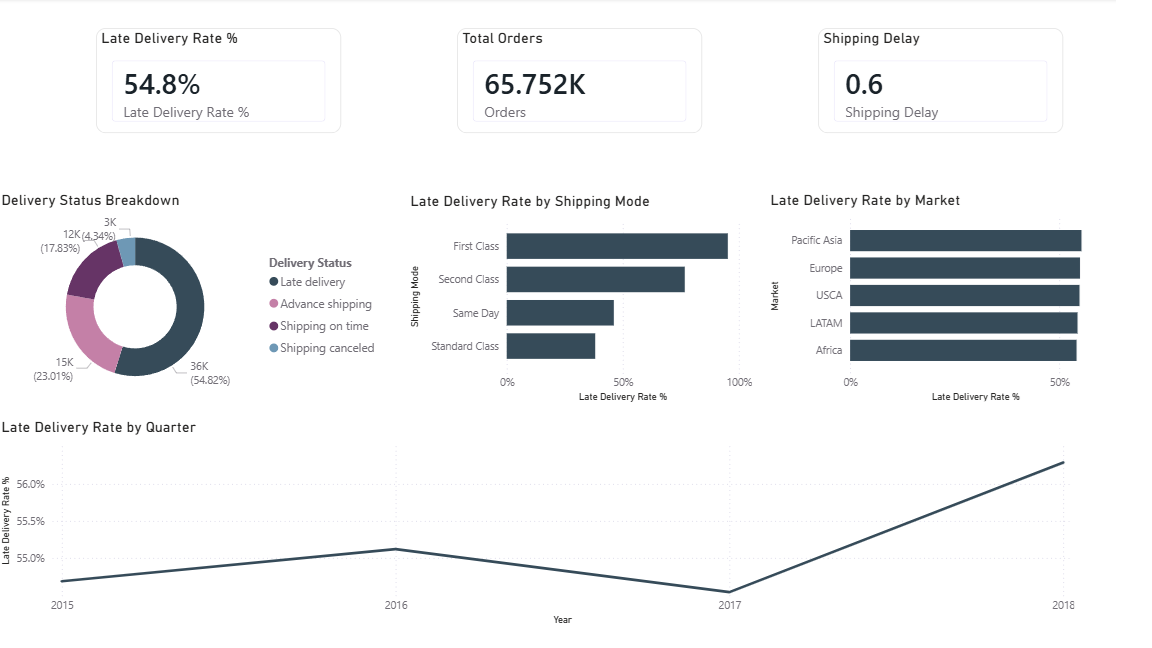

The dashboard page shown, as its layout file describes it:
{"tool":"powerbi","page":{"name":"Logistic Performance","canvas":[1280,720],"ordinal":0},"visuals":[{"type":"cardVisual","title":"Late Delivery Rate %","fields":{"Data":["_Measures.Late Delivery Rate %"]},"box":[113,34.3,280,120],"z":0},{"type":"cardVisual","title":"Total Orders","fields":{"Data":["_Measures.Total Orders"]},"box":[525.2,34.3,280,120],"z":1000},{"type":"cardVisual","title":"Shipping Delay","fields":{"Data":["_Measures.Shipping Delay"]},"box":[937.4,34.3,280,120],"z":2000},{"type":"donutChart","title":"Delivery Status Breakdown","fields":{"Category":["Fact_Orders.Delivery Status"],"Y":["_Measures.Total Orders"]},"box":[0,220.4,445.3,245.5],"z":3000},{"type":"clusteredBarChart","title":"Late Delivery Rate by Shipping Mode","fields":{"Category":["Fact_Orders.Shipping Mode"],"Y":["_Measures.Late Delivery Rate %"]},"box":[467,221.5,400,245],"z":4000},{"type":"clusteredBarChart","title":"Late Delivery Rate by Market","fields":{"Category":["Dim_Geography.Geography Hierarchy.Market","Dim_Geography.Geography Hierarchy.Order Region","Dim_Geography.Geography Hierarchy.Order Country","Dim_Geography.Geography Hierarchy.Order State","Dim_Geography.Geography Hierarchy.Order City"],"Y":["_Measures.Late Delivery Rate %"]},"box":[878.1,220.4,399.6,245.5],"z":5000},{"type":"lineChart","title":"Late Delivery Rate by Quarter","fields":{"Category":["Dim_Date.Date Hierarchy.Year","Dim_Date.Date Hierarchy.Quarter","Dim_Date.Date Hierarchy.Month Name","Dim_Date.Date Hierarchy.Day"],"Y":["_Measures.Late Delivery Rate %"]},"box":[0,479.6,1235.5,240.9],"z":6000}]}

Visuals, with their boxes in screenshot pixels (x1, y1, x2, y2), scaled from the page's 1280x720 canvas onto the 1152x648 screenshot:
"Late Delivery Rate %" cardVisual: box(102, 31, 354, 139)
"Total Orders" cardVisual: box(473, 31, 725, 139)
"Shipping Delay" cardVisual: box(844, 31, 1096, 139)
"Delivery Status Breakdown" donutChart: box(0, 198, 401, 419)
"Late Delivery Rate by Shipping Mode" clusteredBarChart: box(420, 199, 780, 420)
"Late Delivery Rate by Market" clusteredBarChart: box(790, 198, 1150, 419)
"Late Delivery Rate by Quarter" lineChart: box(0, 432, 1112, 647)
